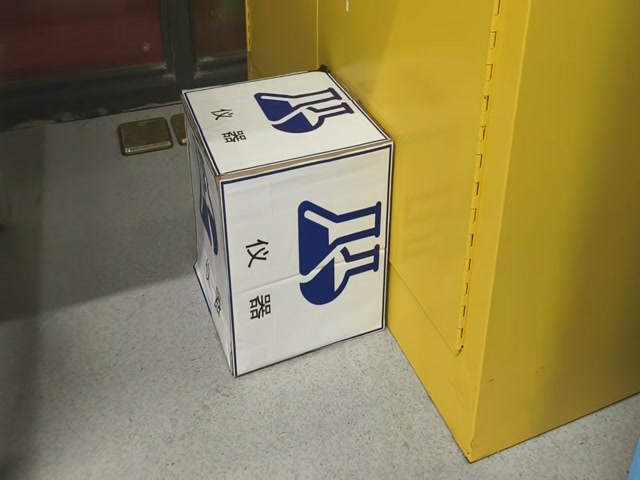Cube_ins: (180, 70, 396, 183)
